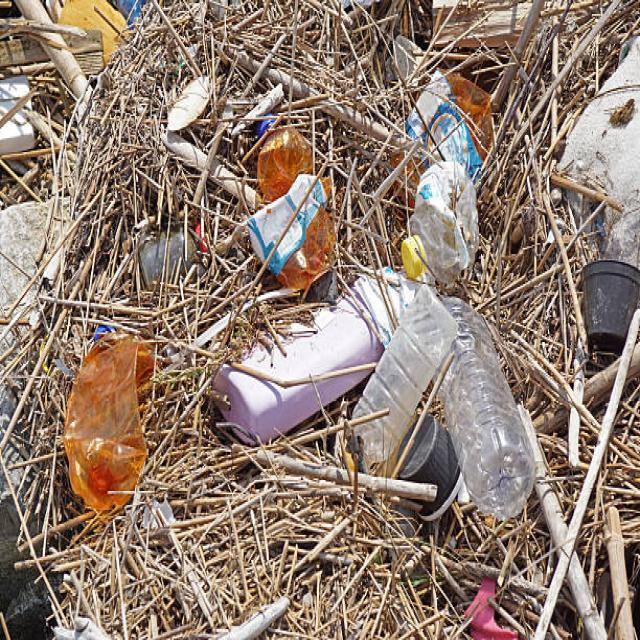plastic: (204, 81, 519, 535)
